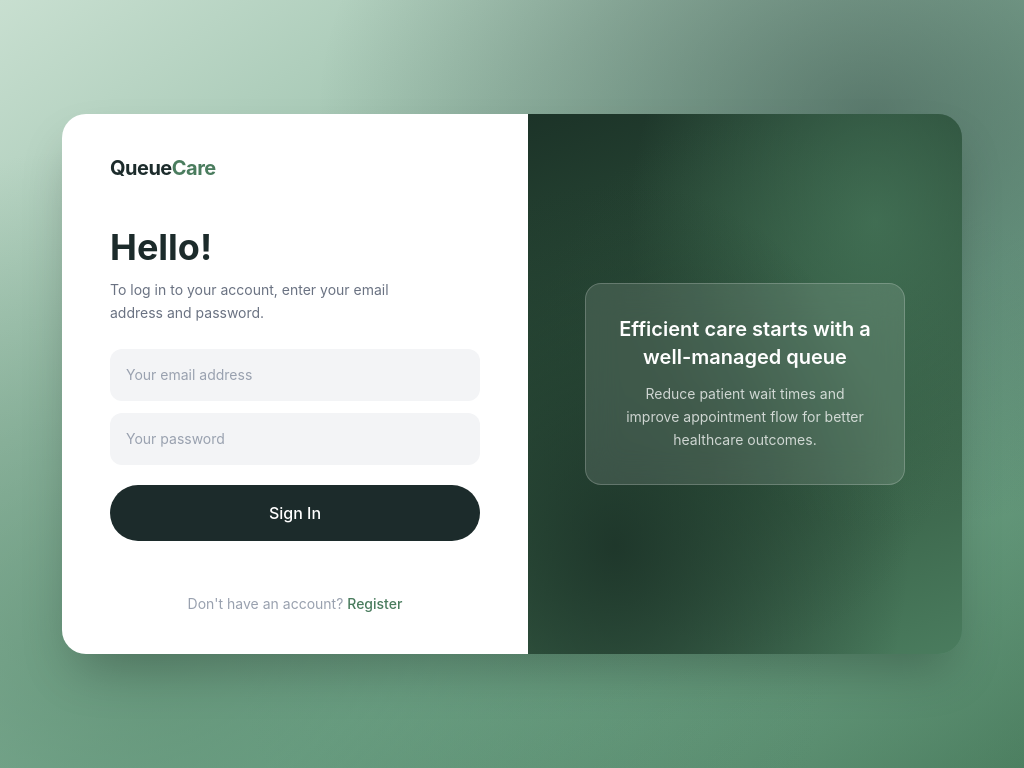
Test: Login — invalid credentials › shows error for non-existent email
In the field with test id "email-input": (295, 375) left=110, top=349, right=480, bottom=401, type "ghost_nobody@notreal.com"
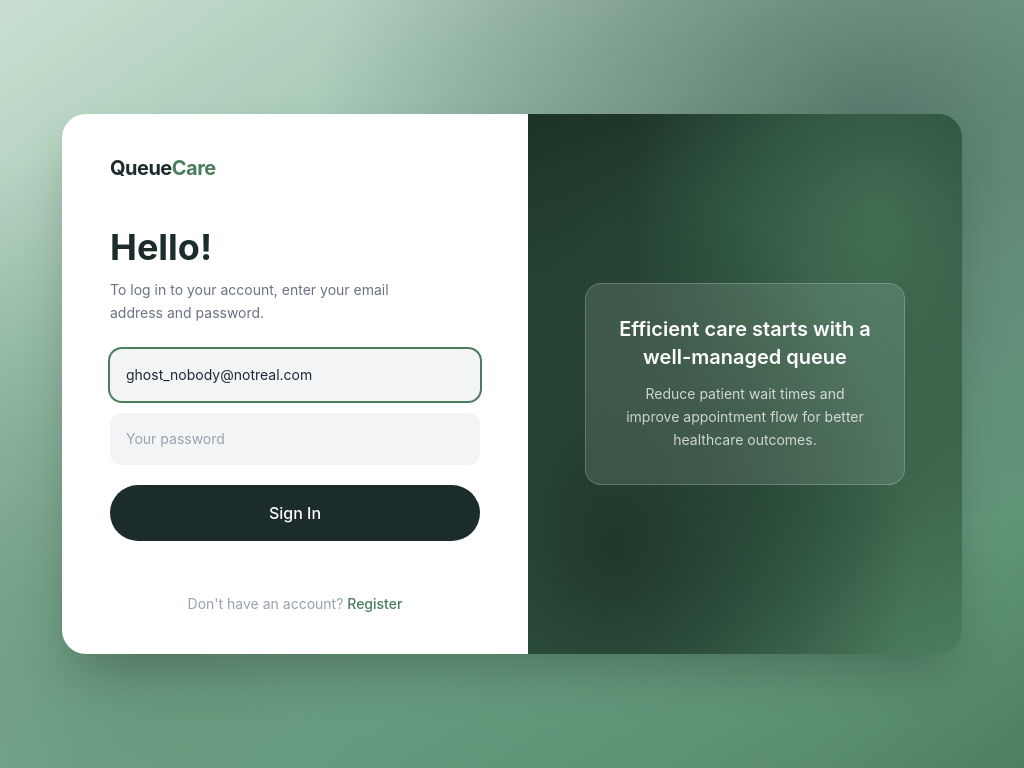
In the password field with test id "password-input": (295, 439) left=110, top=413, right=480, bottom=465, type "Cypress@123"
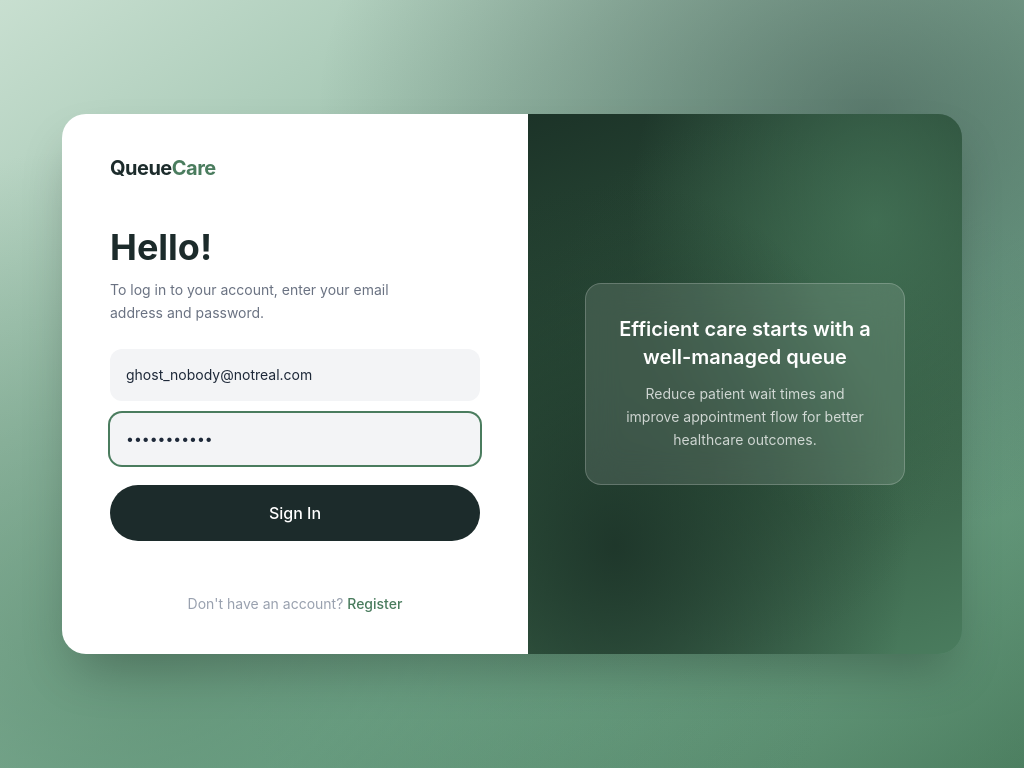
Click the button with test id "submit-btn": (295, 513) left=110, top=485, right=480, bottom=541
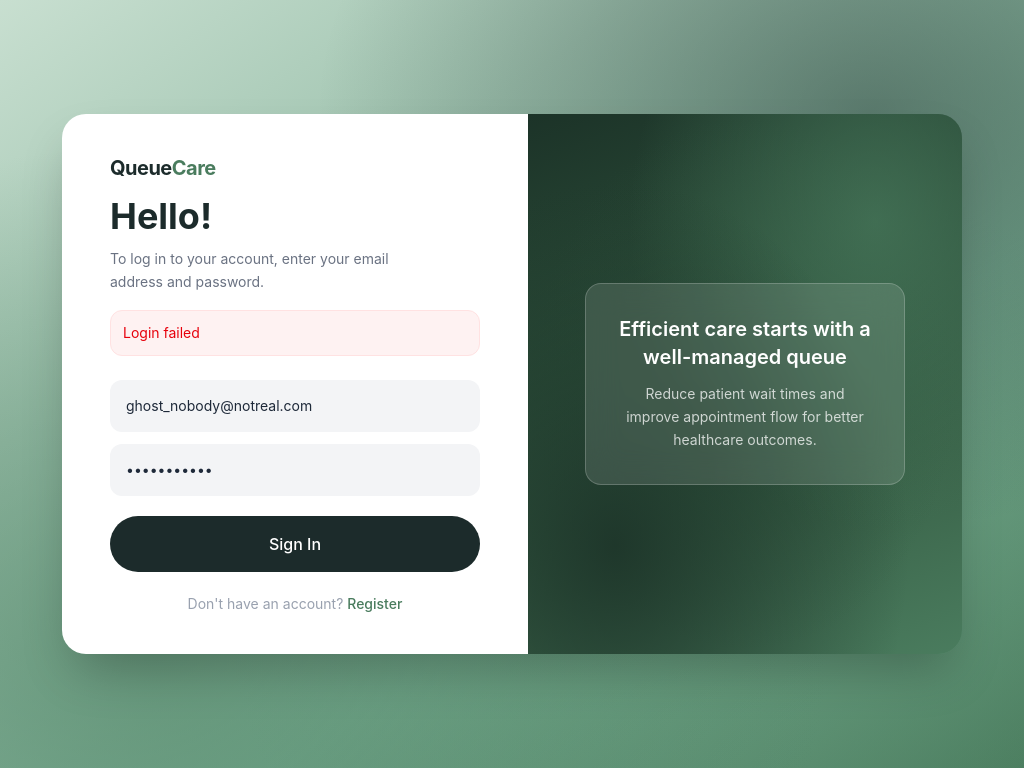
Now the text "Login failed" is shown, box left=110, top=310, right=480, bottom=356
